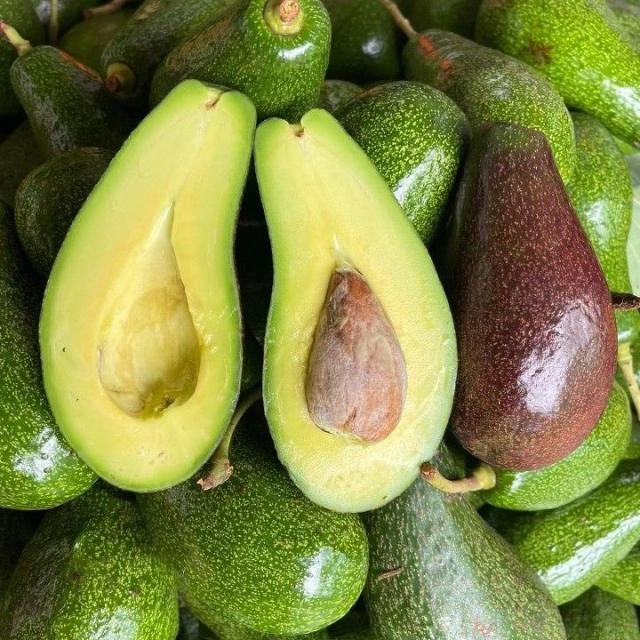avocado: (40, 80, 255, 490), (255, 110, 456, 511), (446, 123, 616, 471), (138, 408, 367, 634), (364, 479, 564, 639), (0, 202, 95, 509), (0, 484, 177, 639), (403, 30, 575, 180), (476, 0, 639, 146), (151, 0, 330, 121), (337, 81, 469, 245), (490, 460, 639, 604), (484, 383, 631, 511), (5, 30, 135, 157), (102, 0, 243, 106), (15, 148, 112, 277), (567, 113, 633, 292), (235, 164, 272, 344), (323, 0, 399, 83), (60, 8, 133, 71), (560, 588, 639, 639), (0, 122, 45, 206), (0, 509, 41, 600), (408, 0, 481, 38), (598, 544, 639, 606), (198, 621, 329, 639), (328, 596, 373, 639), (0, 35, 22, 117), (54, 0, 105, 34), (608, 0, 639, 53), (318, 80, 362, 114), (176, 605, 201, 639), (624, 410, 639, 459)
